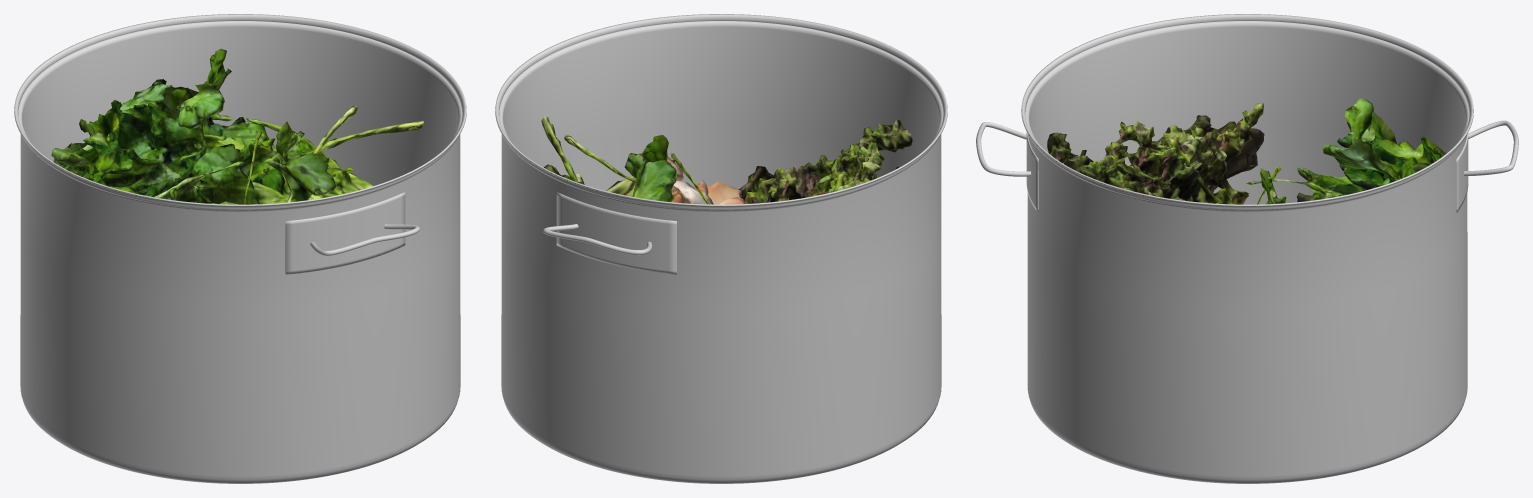
Rendered from SoupStock.fbx.
The picture shows the model from 3 angles, left to right: view 1: azimuth 30°, elevation 25°; view 2: azimuth 150°, elevation 25°; view 3: azimuth 270°, elevation 25°; orthographic projection.
Visible parts, largest first — view 1: Plane, textured, Plane.001, BezierCurve; view 2: Plane, textured, Plane.002, BezierCurve.001; view 3: Plane, textured, BezierCurve, BezierCurve.001, Plane.001, Plane.002.
Boxes of the visible parts, x1=… form: Plane: x1=14, y1=14, x2=466, y2=483; textured: x1=51, y1=48, x2=424, y2=204; Plane.001: x1=285, y1=192, x2=405, y2=274; BezierCurve: x1=310, y1=224, x2=419, y2=255; Plane: x1=495, y1=14, x2=947, y2=483; textured: x1=541, y1=116, x2=912, y2=204; Plane.002: x1=556, y1=192, x2=676, y2=274; BezierCurve.001: x1=543, y1=224, x2=652, y2=255; Plane: x1=1021, y1=14, x2=1473, y2=483; textured: x1=1047, y1=98, x2=1445, y2=204; BezierCurve: x1=976, y1=122, x2=1031, y2=176; BezierCurve.001: x1=1464, y1=120, x2=1518, y2=176; Plane.001: x1=1026, y1=132, x2=1038, y2=212; Plane.002: x1=1456, y1=132, x2=1468, y2=212.
Bounding box in the file's own units: 26.94 × 18.7 × 32.31.
Materials: 2 (1 with a texture image).
